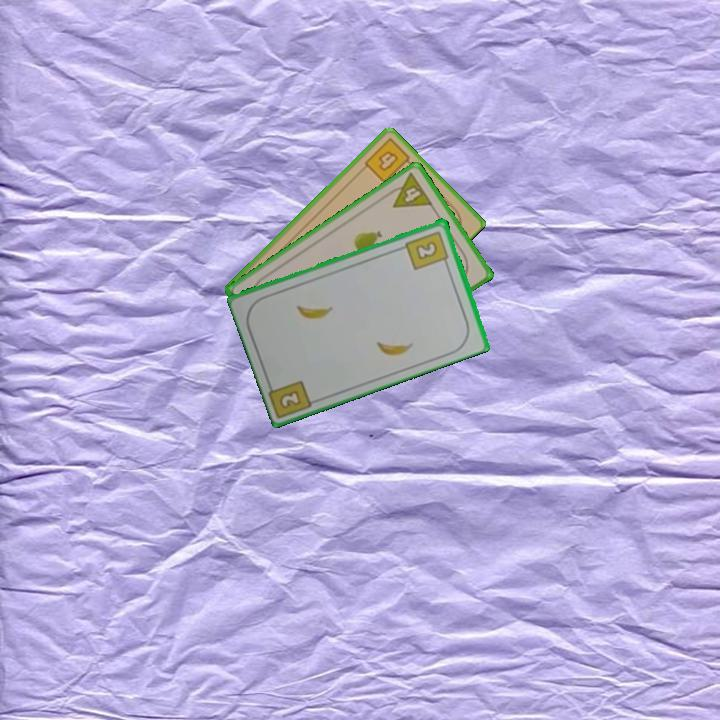2b: (402, 227, 452, 272), (276, 386, 304, 412)
4b: (361, 135, 416, 186)
4p: (382, 169, 436, 211)
